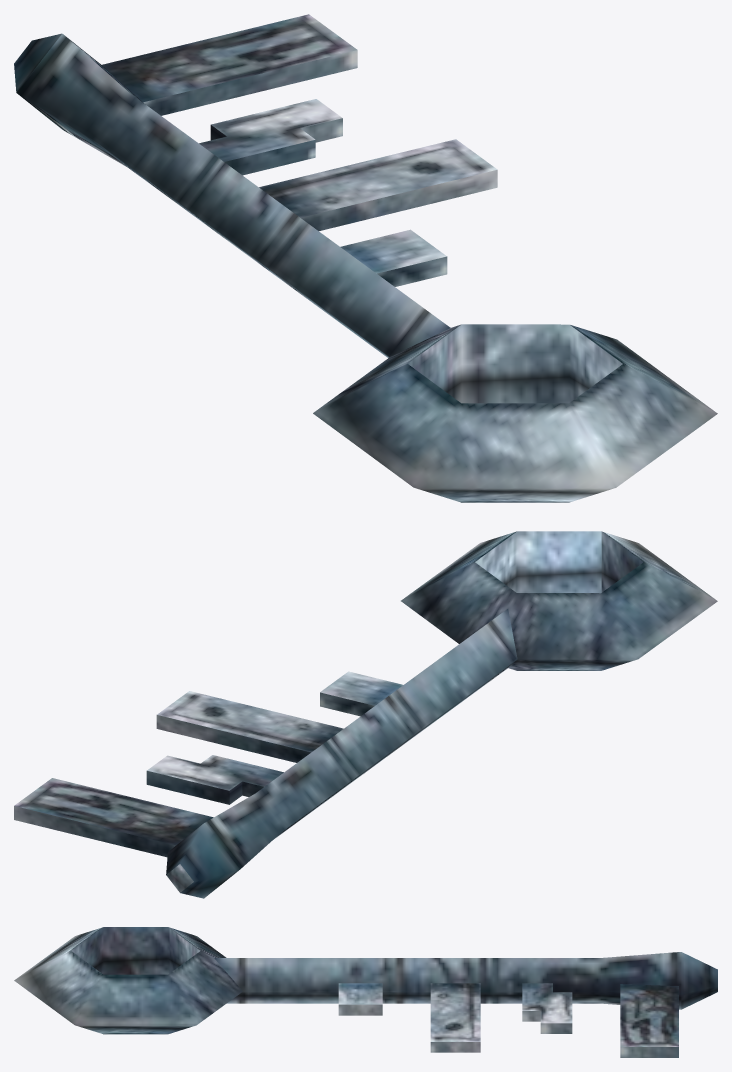
File: ItemBoxKey_silver.glb
3 views of the same model, one above another, from view 1: azimuth 30°, elevation 25°; view 2: azimuth 150°, elevation 25°; view 3: azimuth 270°, elevation 25° (orthographic). The views are drawn at different scales.
Visible parts, largest first — view 1: model_ItemBoxKey_silver; view 2: model_ItemBoxKey_silver; view 3: model_ItemBoxKey_silver.
Part boxes in pixels (x1,y1,x2,y2): model_ItemBoxKey_silver: (14, 14, 717, 502); model_ItemBoxKey_silver: (14, 531, 717, 898); model_ItemBoxKey_silver: (14, 927, 717, 1057).
Bounding box in the file's own units: 0.1714 × 0.041 × 0.4375.
Materials: 1 (1 with a texture image).
